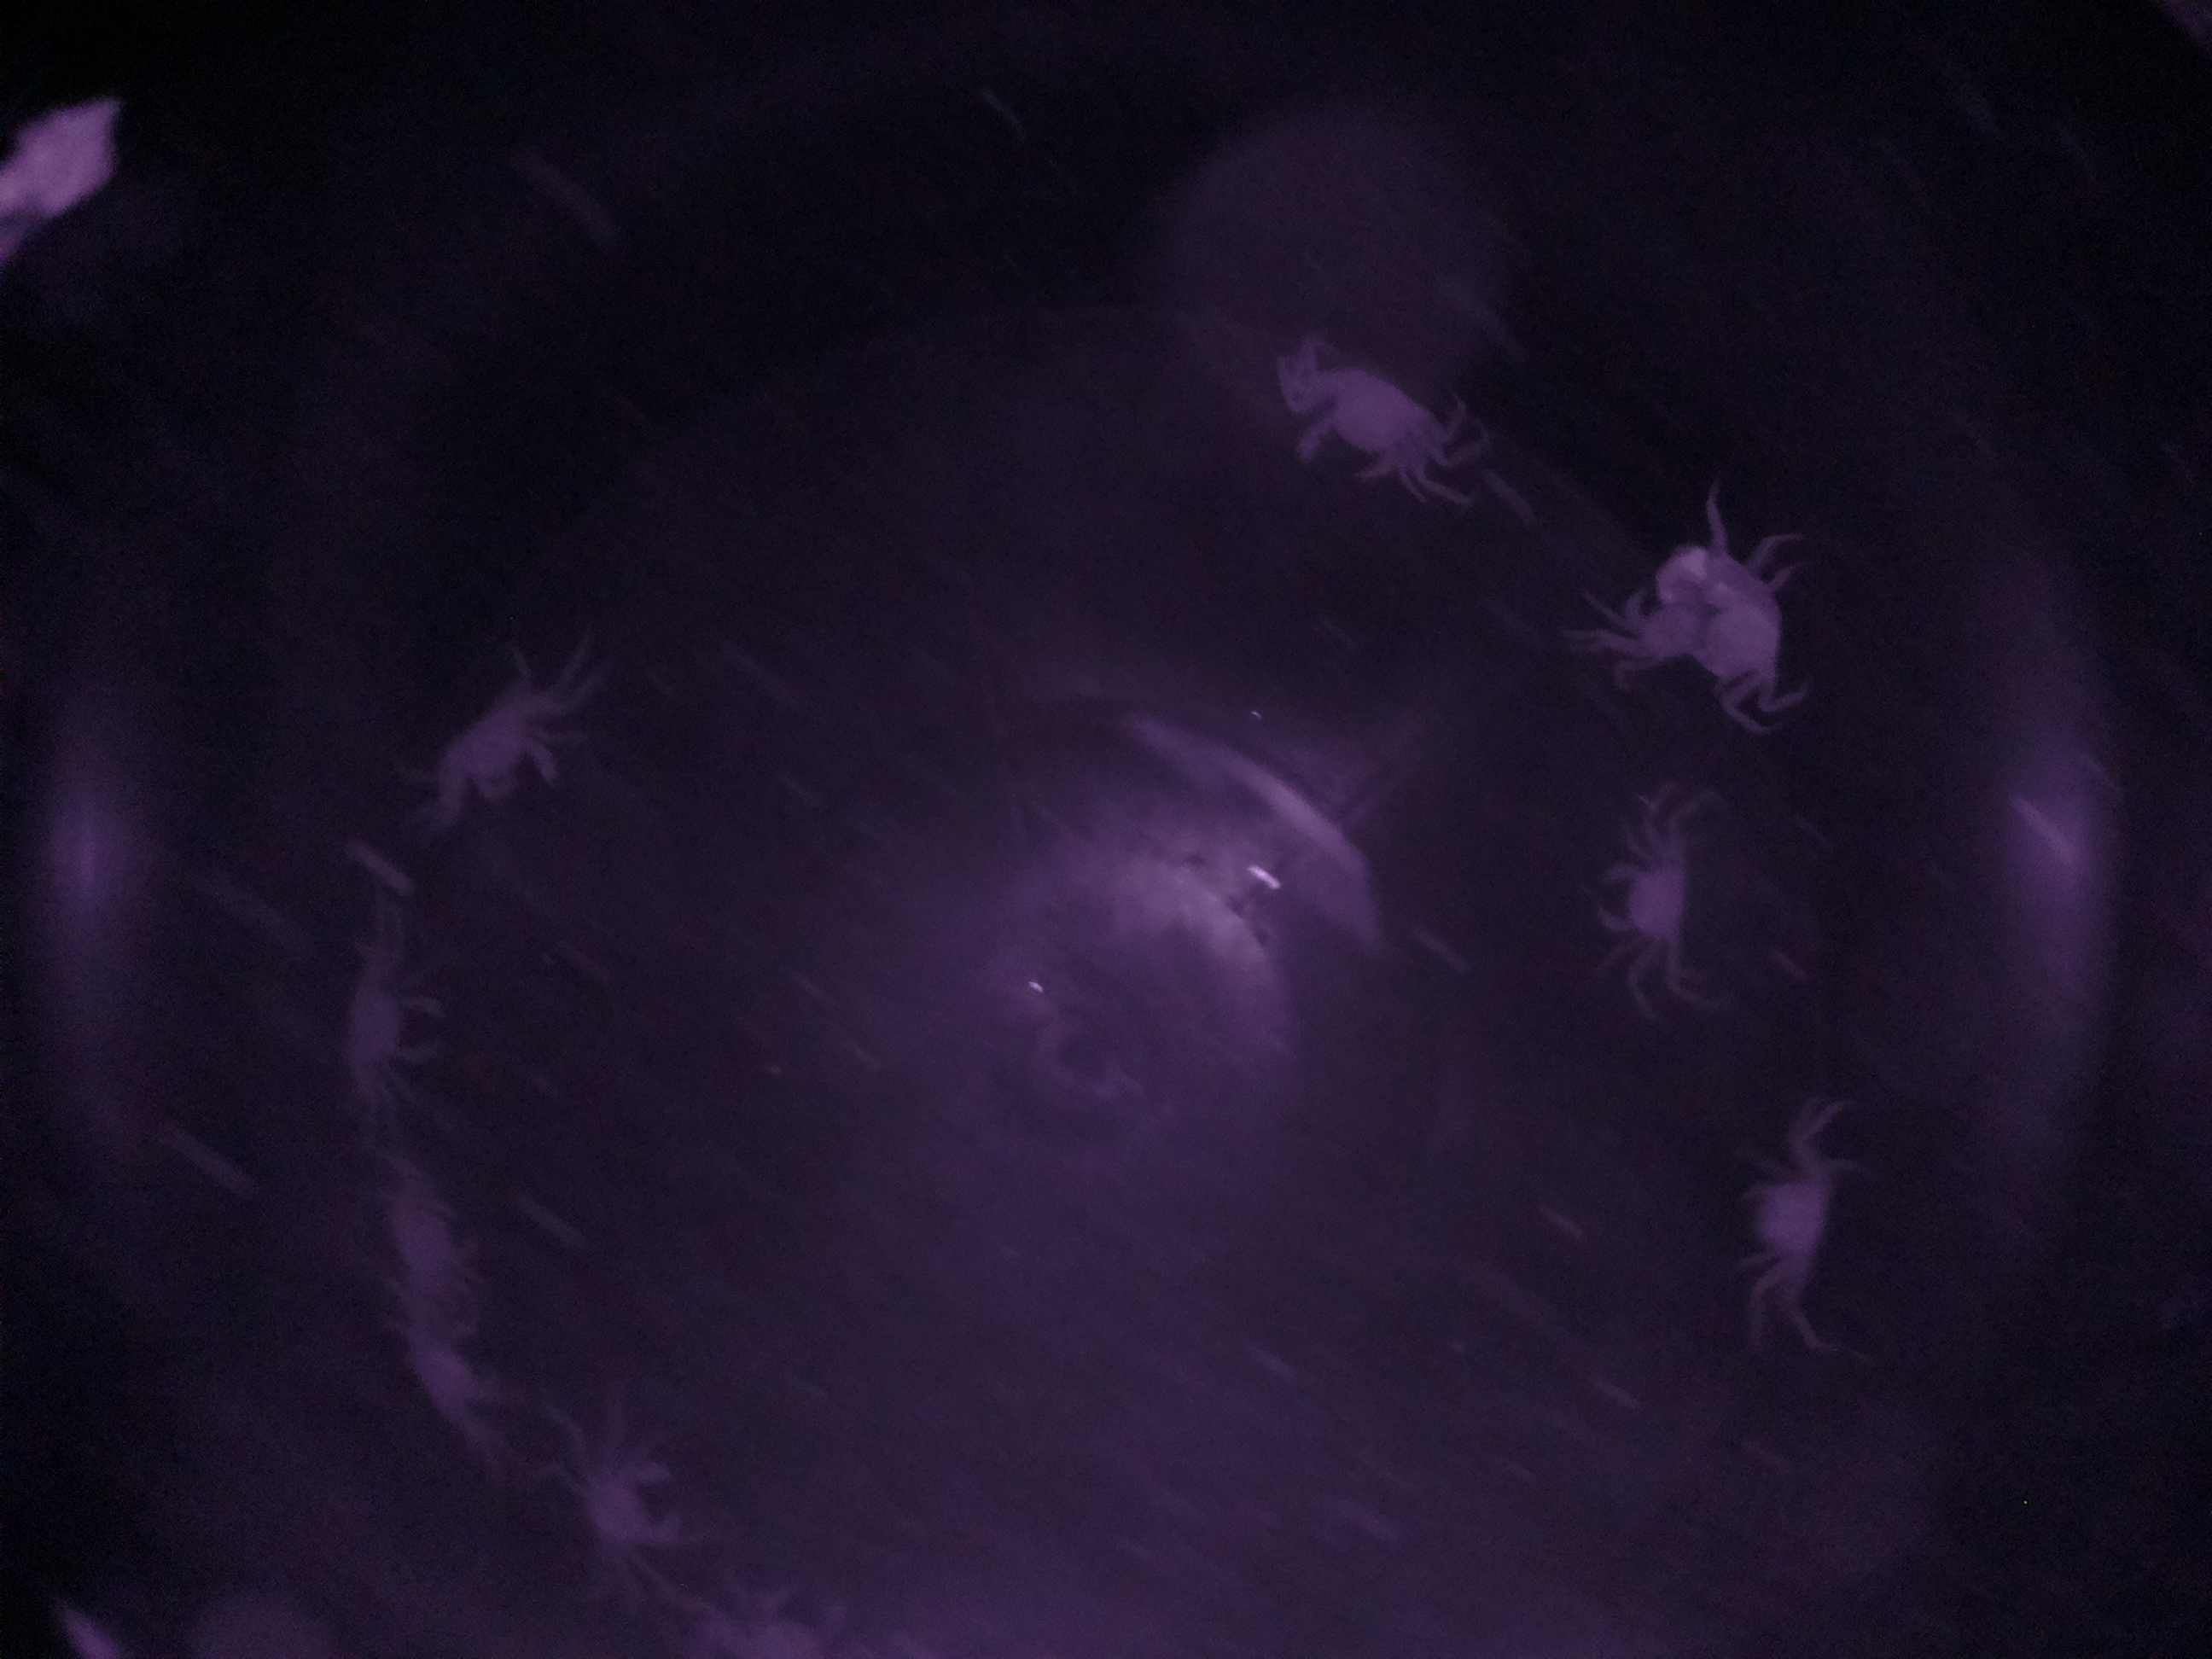Crab: (1266, 331, 1472, 518), (1547, 819, 1752, 983), (397, 664, 582, 840)
